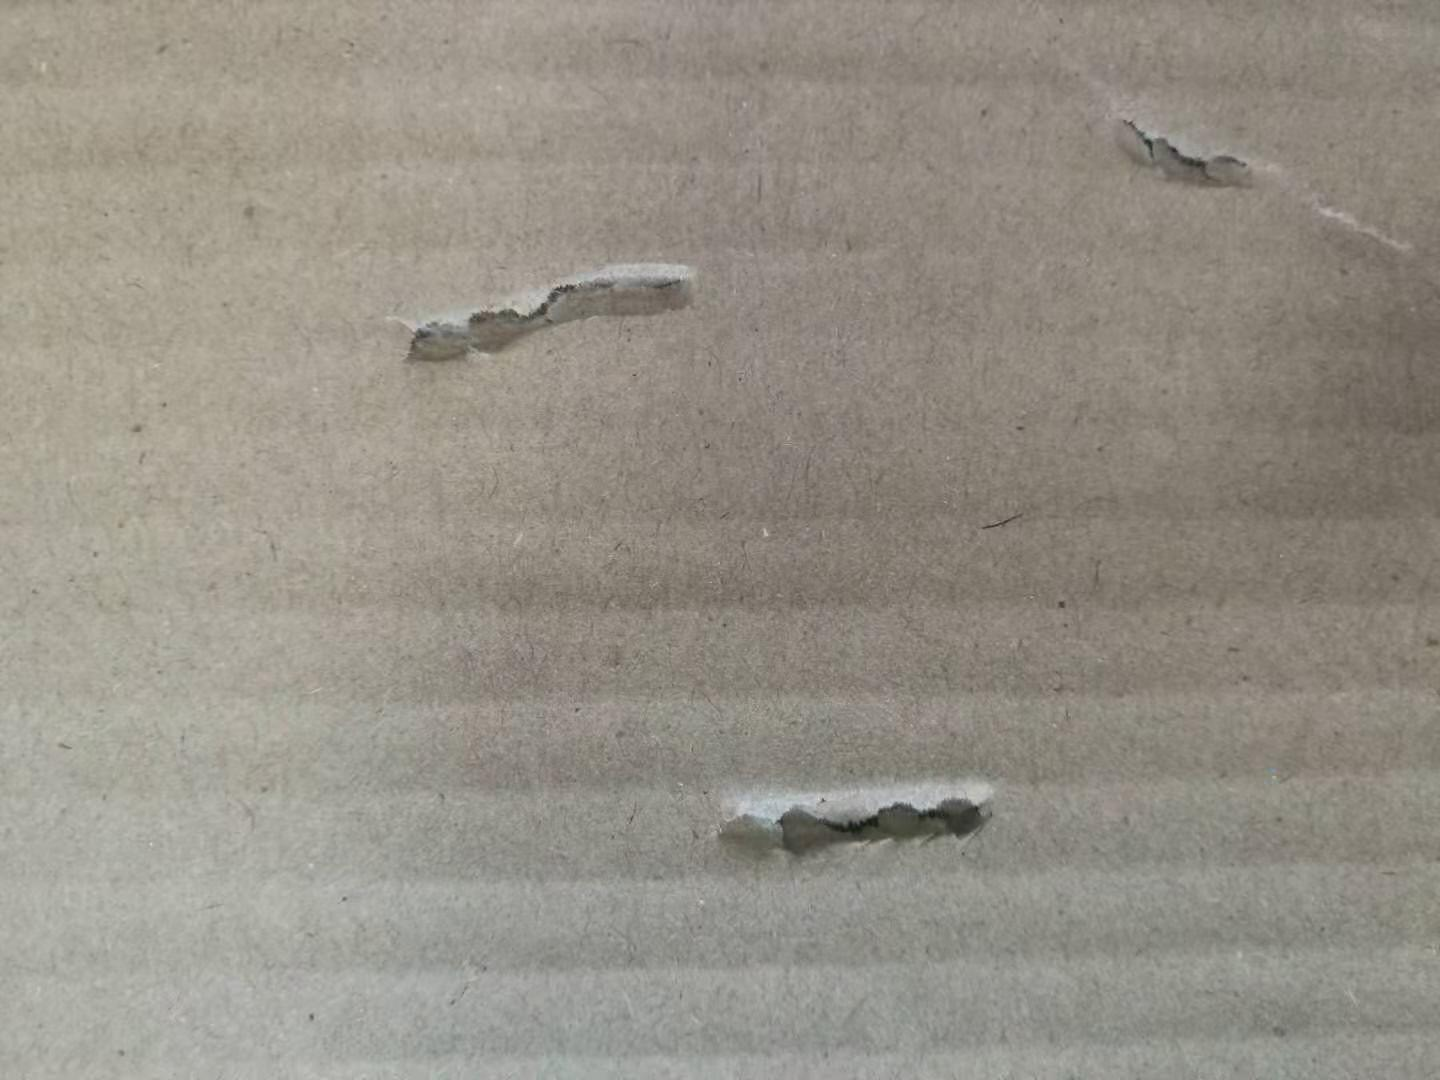defect: (1035, 48, 1426, 296), (363, 201, 757, 428), (667, 740, 1056, 910)
